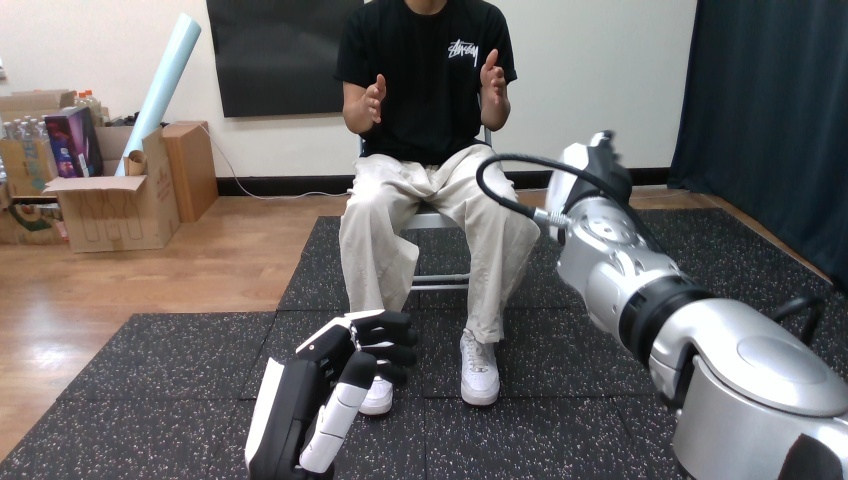left robot hand: (477, 132, 847, 478), (245, 309, 416, 479)
